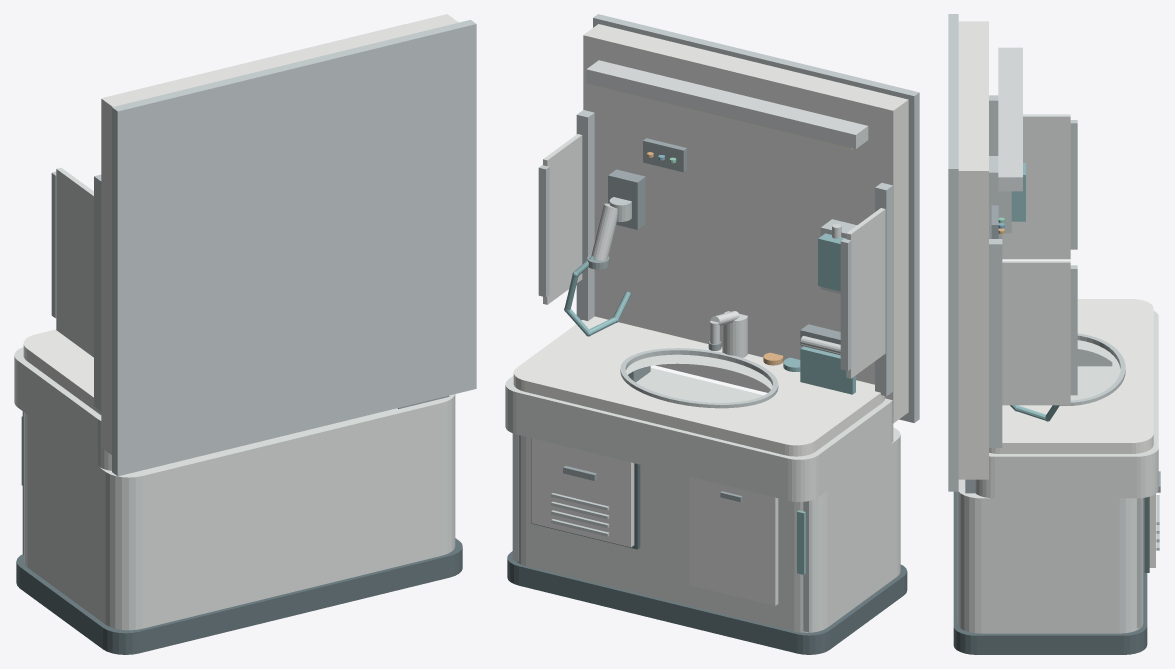
Rendered from low_water_wash_station.glb.
3 renders of one model, left to right at view 1: azimuth 30°, elevation 25°; view 2: azimuth 150°, elevation 25°; view 3: azimuth 270°, elevation 25°, orthographic. The views are drawn at different scales.
Visible parts, largest first — view 1: STATIC_light_aluminium, STATIC_cabinet_ivory, STATIC_rubber_gasket, STATIC_composite_white, STATIC_ceramic_white; view 2: STATIC_composite_white, STATIC_cabinet_ivory, STATIC_light_aluminium, STATIC_ceramic_white, STATIC_polished_alloy, STATIC_rubber_gasket, lower_supply_hatch, greywater_filter_drawer, STATIC_mechanical_grey, STATIC_soft_teal, soap_canister; view 3: STATIC_cabinet_ivory, STATIC_composite_white, STATIC_light_aluminium, STATIC_ceramic_white, STATIC_rubber_gasket, STATIC_polished_alloy, soap_canister, greywater_filter_drawer, STATIC_mechanical_grey, STATIC_soft_teal.
Part boxes in pixels (<box>): STATIC_light_aluminium: <box>22,19,476,554</box>; STATIC_cabinet_ivory: <box>14,167,455,630</box>; STATIC_rubber_gasket: <box>16,538,462,654</box>; STATIC_composite_white: <box>101,14,458,454</box>; STATIC_ceramic_white: <box>23,329,101,414</box>; STATIC_composite_white: <box>583,24,908,423</box>; STATIC_cabinet_ivory: <box>505,134,900,632</box>; STATIC_light_aluminium: <box>512,14,919,632</box>; STATIC_ceramic_white: <box>513,316,884,456</box>; STATIC_polished_alloy: <box>586,60,868,357</box>; STATIC_rubber_gasket: <box>507,438,907,654</box>; lower_supply_hatch: <box>689,476,778,605</box>; greywater_filter_drawer: <box>531,438,634,547</box>; STATIC_mechanical_grey: <box>563,138,840,502</box>; STATIC_soft_teal: <box>564,256,855,574</box>; soap_canister: <box>818,233,846,291</box>; STATIC_cabinet_ivory: <box>957,114,1158,633</box>; STATIC_composite_white: <box>958,21,988,479</box>; STATIC_light_aluminium: <box>948,14,1159,628</box>; STATIC_ceramic_white: <box>989,299,1153,453</box>; STATIC_rubber_gasket: <box>953,491,1149,654</box>; STATIC_polished_alloy: <box>998,47,1022,191</box>; soap_canister: <box>1011,163,1025,221</box>; greywater_filter_drawer: <box>1149,494,1155,567</box>; STATIC_mechanical_grey: <box>965,205,1160,493</box>; STATIC_soft_teal: <box>1010,405,1059,421</box>.
Size of the model in its own units: 1.42 by 2.08 by 0.822.
